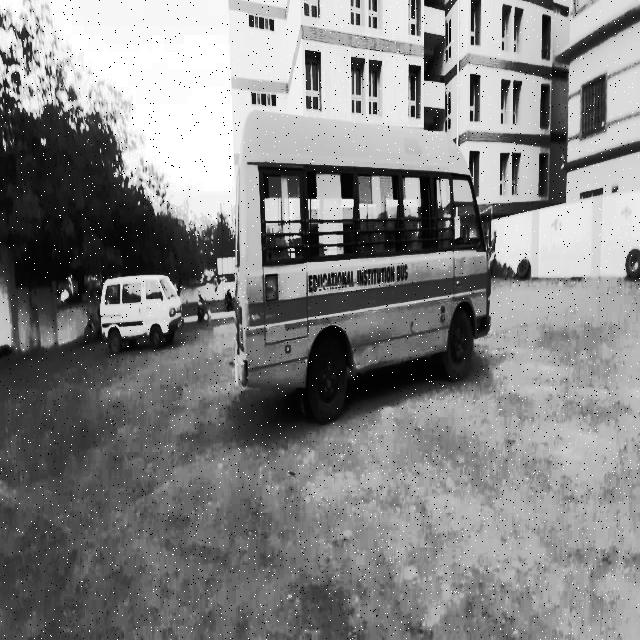Bus: (224, 90, 510, 432)
